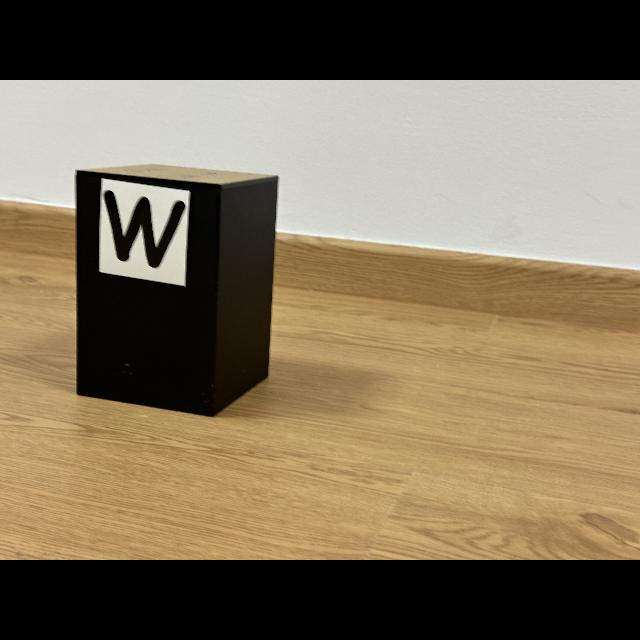W: (104, 190, 185, 268)
